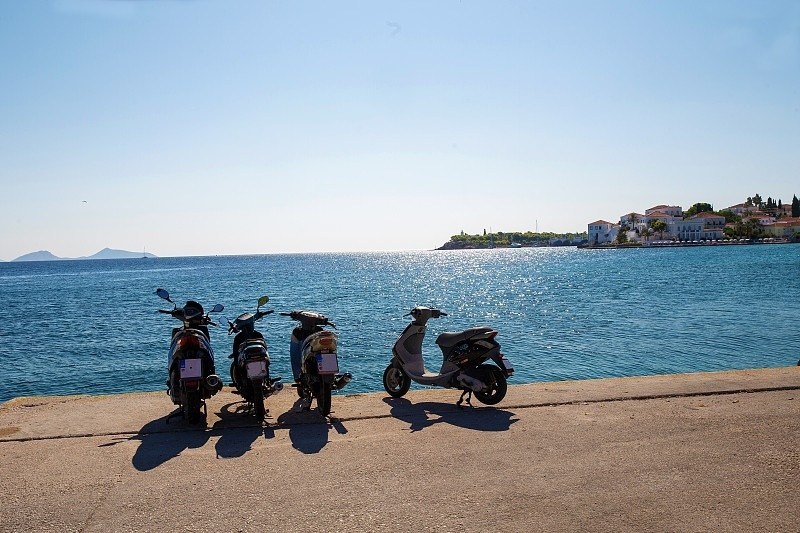non-vehicle: (383, 305, 516, 402), (152, 294, 223, 419), (280, 308, 344, 413), (220, 301, 276, 419)
